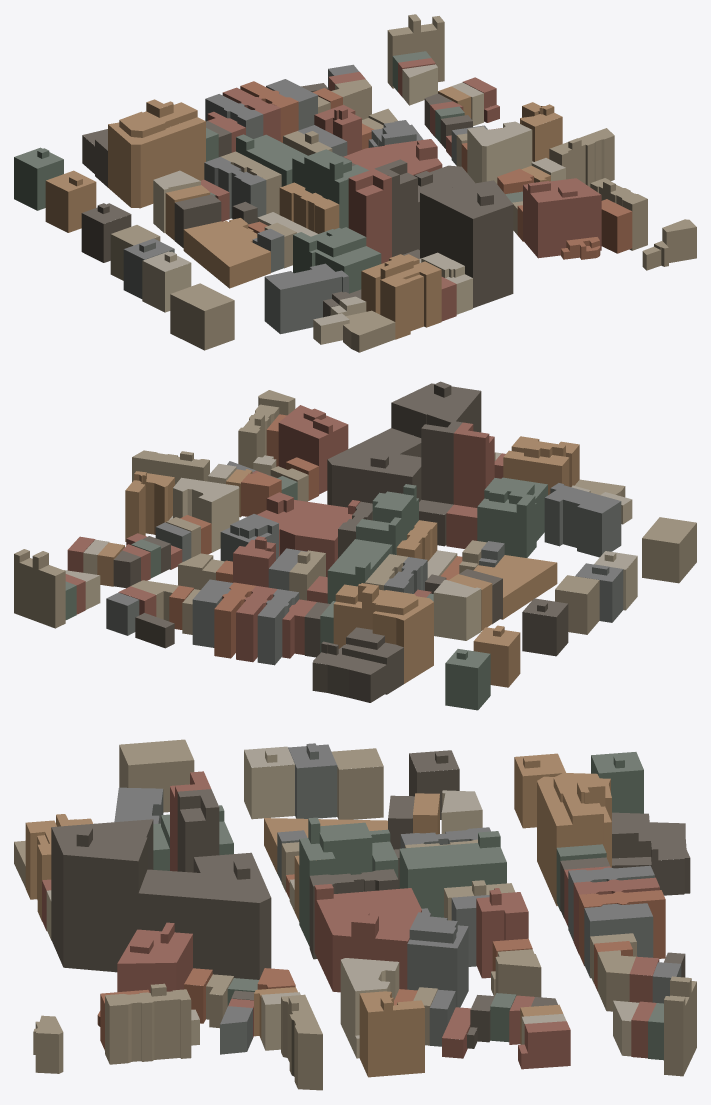
The model's file is tile--5_-3.glb.
3 renders of one model, top to bottom at view 1: azimuth 30°, elevation 25°; view 2: azimuth 150°, elevation 25°; view 3: azimuth 270°, elevation 25°, orthographic. The views are drawn at different scales.
Parts seen in each view (by area): view 1: wall, roof; view 2: wall, roof; view 3: wall, roof.
Part boxes in pixels (x1,y1,x2,y2): wall: (14, 15, 696, 352); roof: (14, 14, 696, 335); wall: (14, 384, 696, 710); roof: (14, 381, 696, 674); wall: (14, 745, 696, 1090); roof: (14, 739, 696, 1053).
Size of the model in its own units: 213 by 46.03 by 202.
